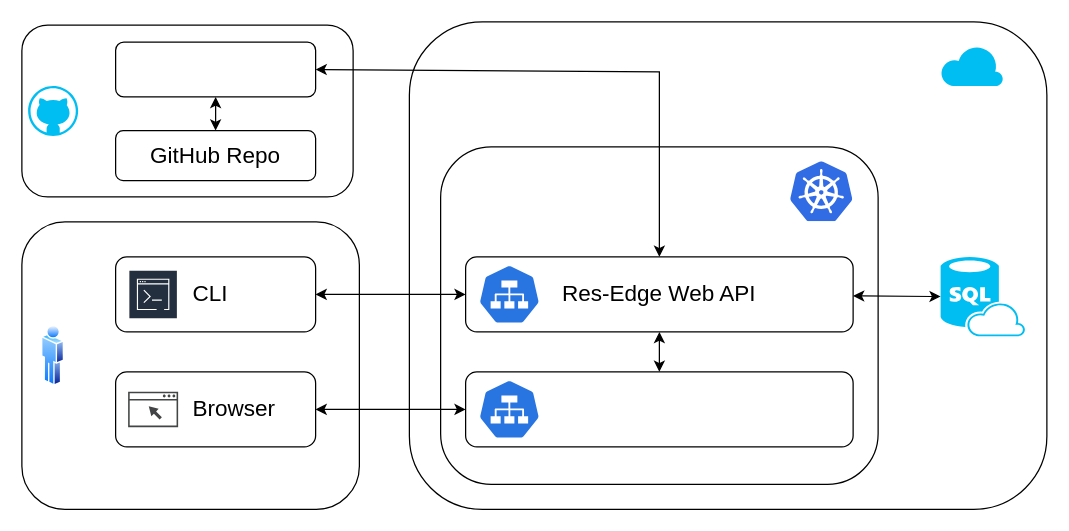
The diagram is 1069 pixels wide and 531 high, and some of its shapes have lost their labels. The box of each missing label's shape, as (x1, y1, x2, y2) in pixels:
GitOps (GitHub Action): (114, 41, 316, 97)
Res-Edge Web UI: (464, 371, 853, 447)
